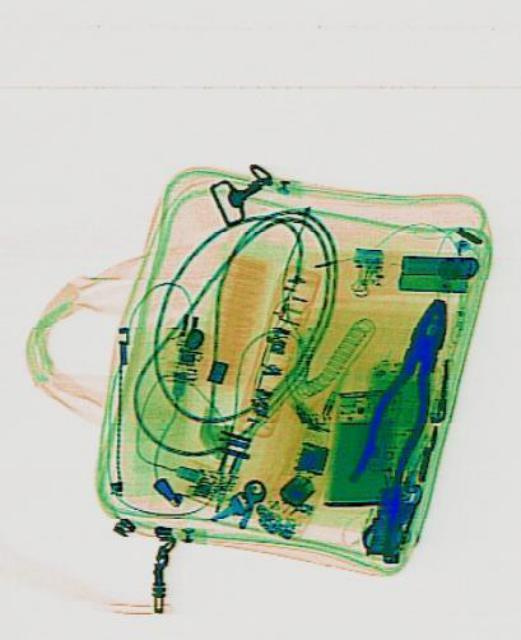Pliers: (347, 287, 464, 499)
